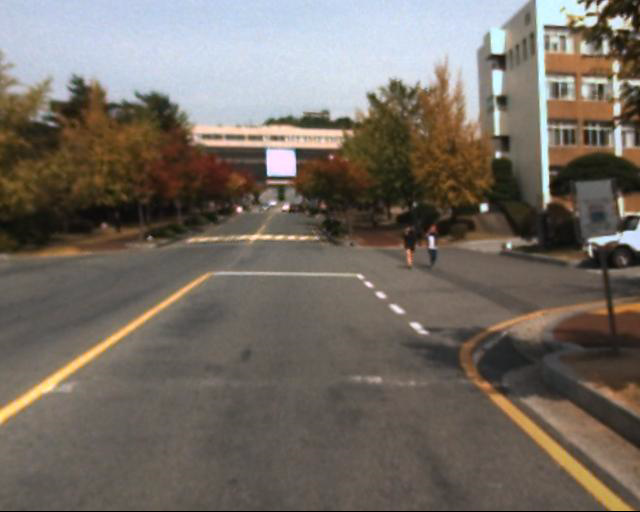person: (425, 221, 445, 274), (402, 220, 424, 268)
